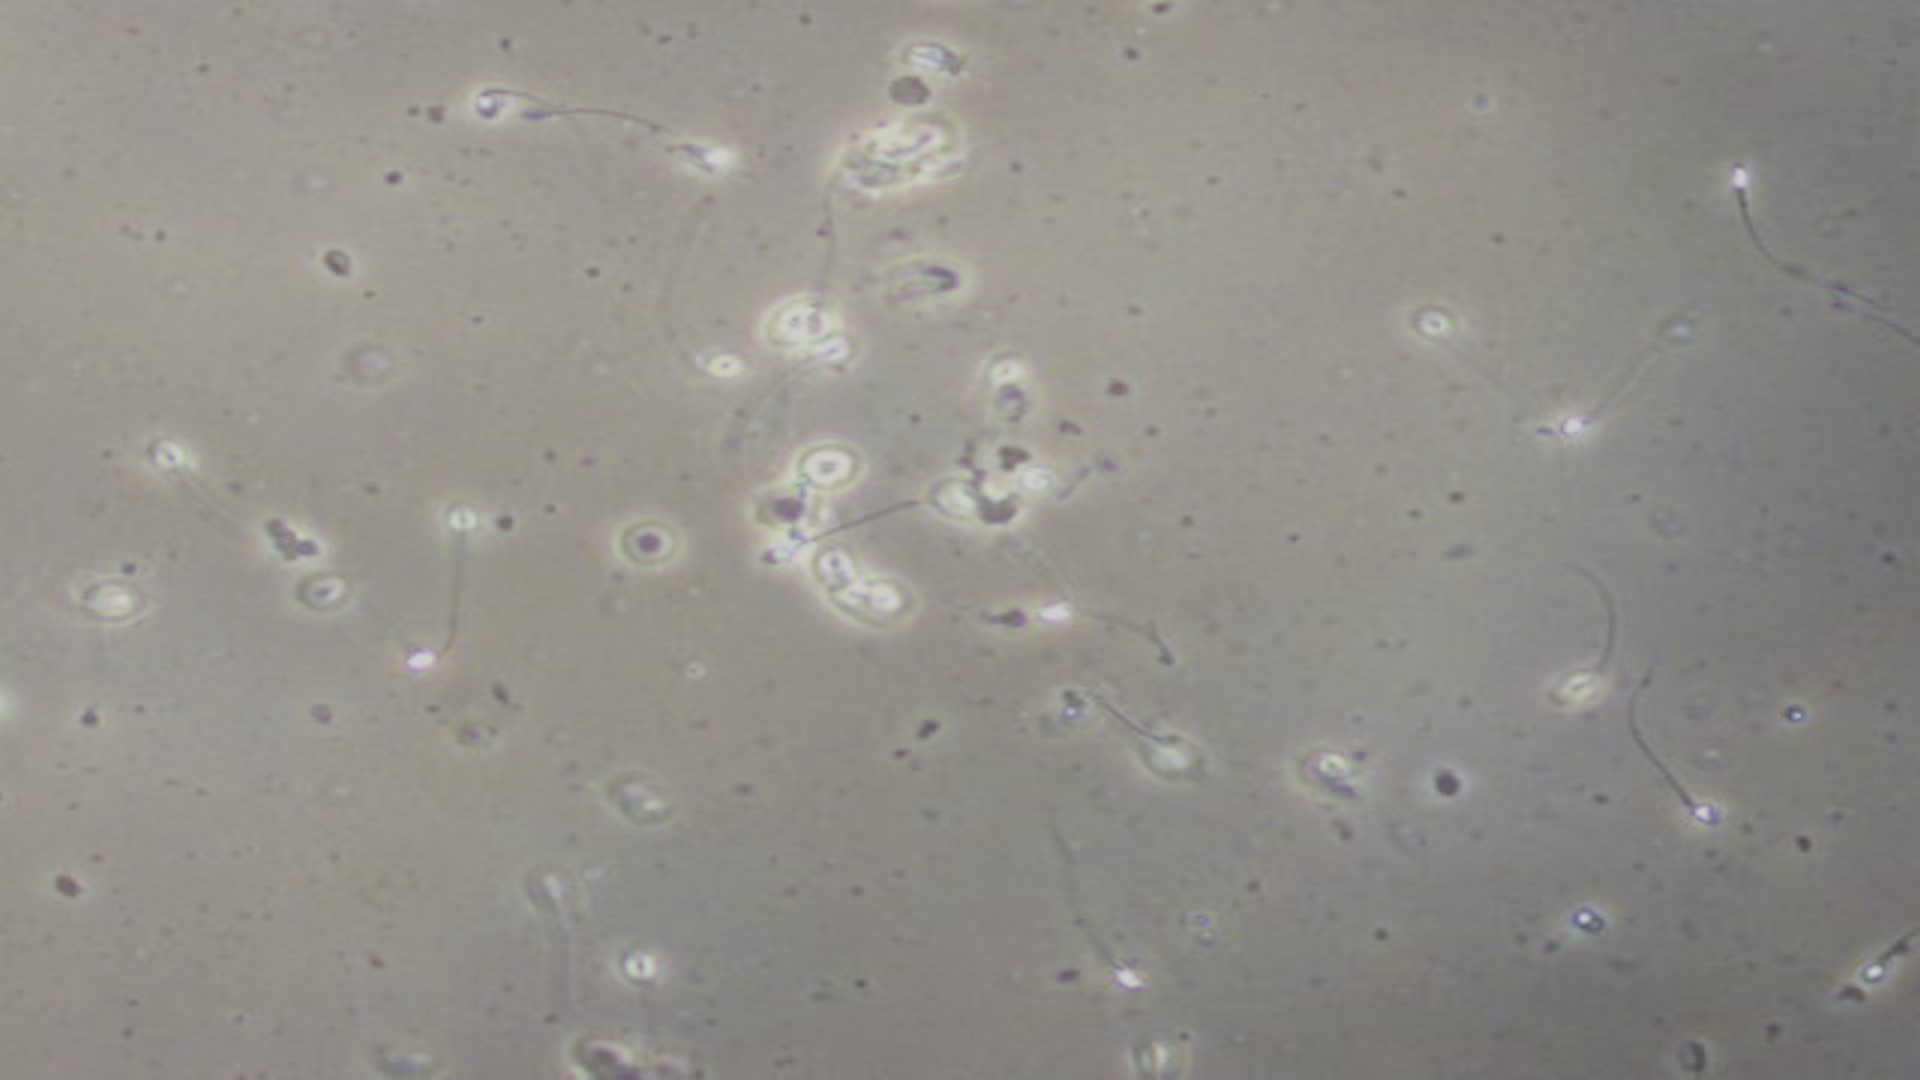sperm: (1706, 149, 1832, 331), (439, 489, 531, 653), (1629, 707, 1727, 827), (1553, 377, 1658, 491), (1064, 876, 1153, 996), (1025, 593, 1164, 667), (471, 82, 570, 146), (1840, 911, 1909, 1002), (781, 509, 872, 566)
